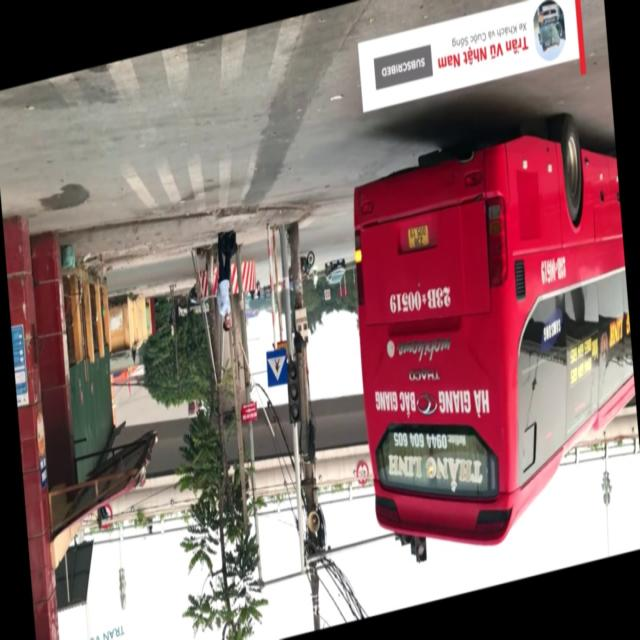bien_vang: (407, 224, 429, 250)
